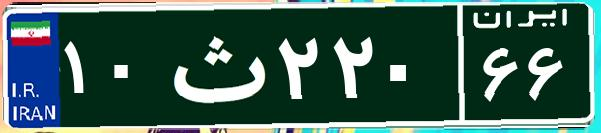0: (385, 28, 445, 110), (110, 28, 158, 105)
1: (57, 26, 110, 107)
2: (273, 28, 330, 110), (330, 28, 385, 110)
6: (475, 38, 525, 113), (525, 38, 570, 115)
ث: (158, 15, 273, 115)
